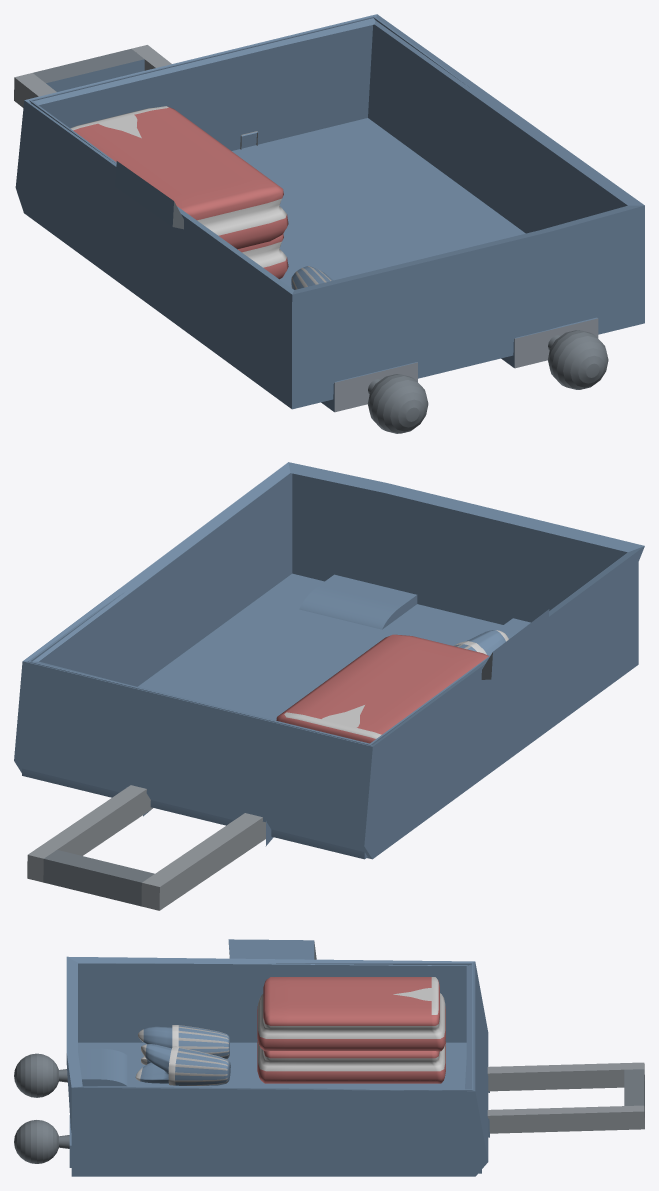
Rendered from suitcase_half2.fbx.
3 views of the same model, one above another, from view 1: azimuth 30°, elevation 25°; view 2: azimuth 150°, elevation 25°; view 3: azimuth 270°, elevation 25° (orthographic). The views are drawn at different scales.
Visible parts, largest first — view 1: polySurface417; view 2: polySurface417; view 3: polySurface417.
Part boxes in pixels (box(x1,y1,x2,y2)): polySurface417: box(14, 14, 644, 433); polySurface417: box(14, 462, 644, 910); polySurface417: box(14, 939, 644, 1176).
Size of the model in its own units: 3.14 by 1.31 by 6.19.
